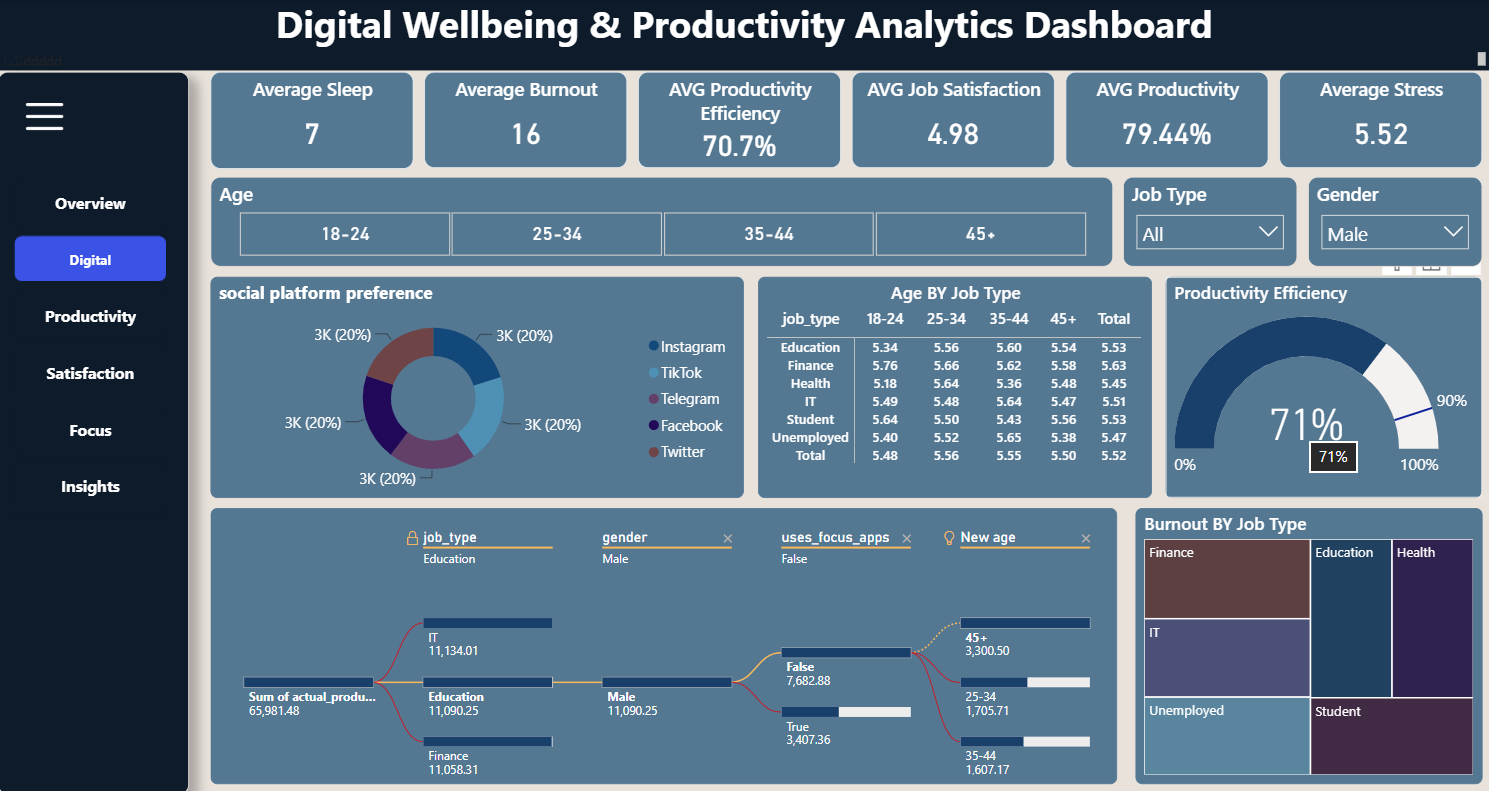

What the dashboard file says about the page in this screenshot:
{"tool":"powerbi","page":{"name":"Digital","canvas":[1500,800],"ordinal":1},"visuals":[{"type":"card","title":"Average Sleep","fields":{"Values":["Measures (2).0.4 AVG Sleep"]},"box":[213.8,74,203.8,97.5],"z":0},{"type":"card","title":"Average Burnout","fields":{"Values":["Measures (2).0.5 AVG Burnout"]},"box":[428,74,203.8,97],"z":1000},{"type":"card","title":"Average Stress","fields":{"Values":["Measures (2).0.6 AVG stress"]},"box":[1287.5,74,204,97],"z":2000},{"type":"card","title":"AVG Productivity ","fields":{"Values":["Measures (2).0.7 AVG Productivity Score"]},"box":[1073,74,203.8,97],"z":3000},{"type":"card","title":"AVG Job Satisfaction","fields":{"Values":["Measures (2).AVG Job Satisfaction"]},"box":[858,74,203.8,97],"z":4000},{"type":"card","title":"AVG Productivity Efficiency","fields":{"Values":["Measures (2).0.2 AVG Productivity Efficiency"]},"box":[643,74,203.8,97],"z":7000},{"type":"gauge","title":"Productivity Efficiency","fields":{"Y":["Measures (2).0.2 AVG Productivity Efficiency"]},"box":[1173.8,280,317.5,222.5],"z":8000},{"type":"donutChart","title":"social platform preference","fields":{"Category":["main data.social_platform_preference"],"Y":["CountNonNull(main data.social_platform_preference)"]},"box":[213.8,280,536.2,222.5],"z":9000},{"type":"slicer","title":"Gender","fields":{"Values":["main data.gender"]},"box":[1316.2,180,175,90],"z":10000},{"type":"slicer","title":"Job Type","fields":{"Values":["main data.social_platform_preference"]},"box":[1131,180,175,90],"z":11000},{"type":"treemap","title":"Burnout BY Job Type ","fields":{"Values":["Sum(main data.days_feeling_burnout_per_month)"],"Group":["main data.job_type"]},"box":[1143,512,348.8,277.5],"z":12000},{"type":"pivotTable","title":"Age BY Job Type ","fields":{"Rows":["main data.job_type"],"Columns":["main data.New age"],"Values":["Measures (2).0.6 AVG stress"]},"box":[763.8,280,396.2,222.5],"z":13000},{"type":"decompositionTreeVisual","fields":{"ExplainBy":["main data.job_type","main data.gender","main data.uses_focus_apps","main data.New age"],"Analyze":["Sum(main data.actual_productivity_score)"]},"box":[213.8,512.5,911.2,277.5],"z":14000},{"type":"textbox","title":"Digital Wellbeing & Productivity Analytics Dashboard ","box":[0,0,1500,72.9],"z":15000},{"type":"textbox","box":[0,74.1,192.2,726.1],"z":16000},{"type":"pageNavigator","box":[15.2,180.3,156.1,337.9],"z":17000},{"type":"image","box":[0,105.5,93,37.7],"z":18000},{"type":"slicer","title":"Age","fields":{"Values":["main data.New age"]},"box":[213.8,180,907.5,90],"z":19000}]}

Visuals, with their boxes on the page's 1500x800 design canvas (x1, y1, x2, y2). These are canvas units, not pixel positions in the 1489x791 screenshot, which may show the page scaled, cropped or inside an application window:
"Average Sleep" card: 214:74:418:172
"Average Burnout" card: 428:74:632:171
"Average Stress" card: 1288:74:1492:171
"AVG Productivity " card: 1073:74:1277:171
"AVG Job Satisfaction" card: 858:74:1062:171
"AVG Productivity Efficiency" card: 643:74:847:171
"Productivity Efficiency" gauge: 1174:280:1491:502
"social platform preference" donutChart: 214:280:750:502
"Gender" slicer: 1316:180:1491:270
"Job Type" slicer: 1131:180:1306:270
"Burnout BY Job Type " treemap: 1143:512:1492:790
"Age BY Job Type " pivotTable: 764:280:1160:502
decompositionTreeVisual - main data.job_type x main data.gender: 214:512:1125:790
"Digital Wellbeing & Productivity Analytics Dashboard " textbox: 0:0:1500:73
textbox: 0:74:192:800
pageNavigator: 15:180:171:518
image: 0:106:93:143
"Age" slicer: 214:180:1121:270
